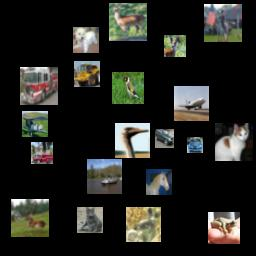airplane: (174, 86, 209, 121), (22, 111, 48, 137)
automobile: (155, 129, 174, 148), (187, 137, 203, 153)
bird: (115, 123, 150, 158), (112, 72, 144, 104)
cat: (215, 123, 253, 161), (77, 207, 103, 233)
deer: (109, 3, 147, 41), (11, 199, 49, 237), (126, 207, 161, 242), (164, 35, 186, 57)
dog: (73, 27, 99, 53)
frog: (208, 212, 240, 244)
ship: (87, 159, 122, 194)
truck: (20, 67, 58, 105), (74, 61, 100, 87), (31, 142, 53, 164)
